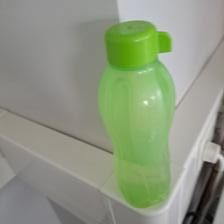bottle: (95, 15, 180, 211)
